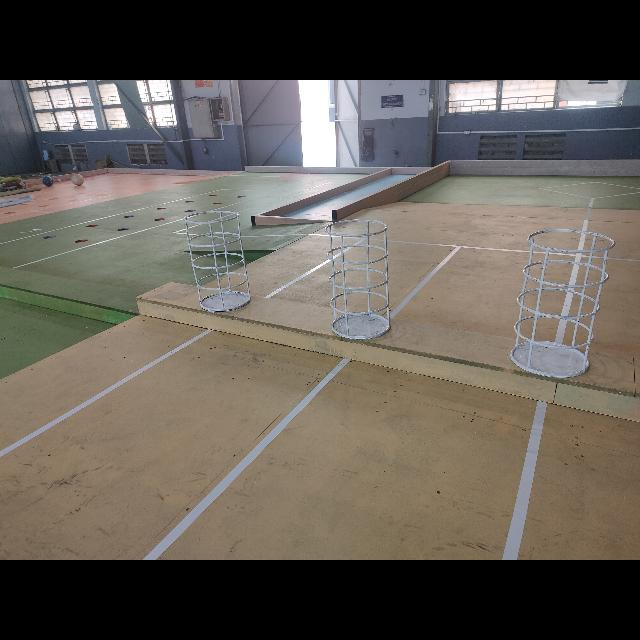S: (508, 229, 615, 379), (325, 219, 391, 340), (183, 209, 252, 312)
